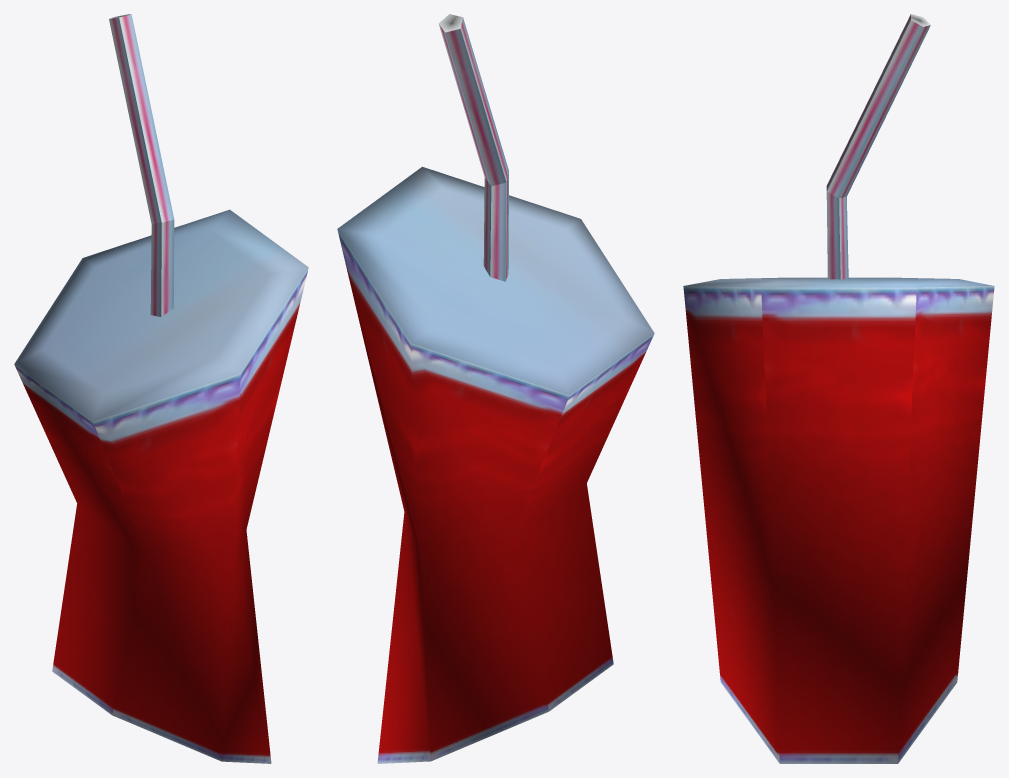
File: cola_ed.fbx
3 renders of one model, left to right at view 1: azimuth 30°, elevation 25°; view 2: azimuth 150°, elevation 25°; view 3: azimuth 270°, elevation 25°, orthographic. The views are drawn at different scales.
Parts seen in each view (by area): view 1: Soda_Cup_Crushed; view 2: Soda_Cup_Crushed; view 3: Soda_Cup_Crushed.
Boxes of the visible parts, left/top/right/bottom form: Soda_Cup_Crushed: left=14, top=14, right=308, bottom=763; Soda_Cup_Crushed: left=337, top=14, right=654, bottom=763; Soda_Cup_Crushed: left=683, top=14, right=994, bottom=763.
Size of the model in its own units: 22.07 by 70.27 by 27.97.
